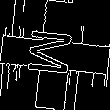M_E: (28, 30, 82, 80)
